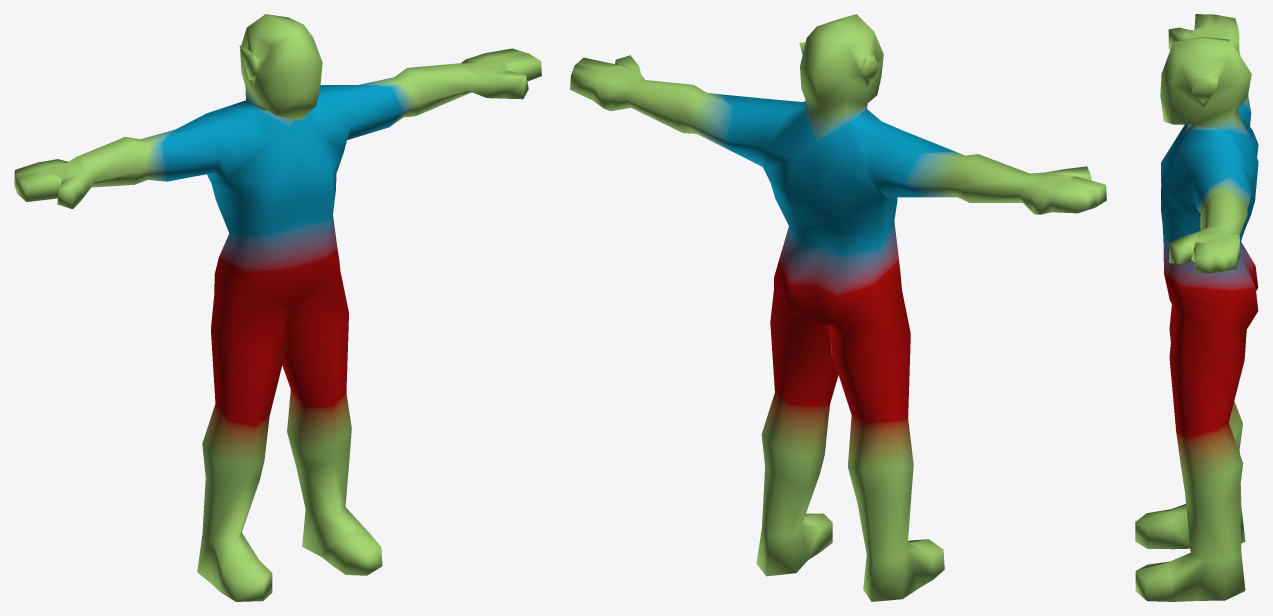
File: orc1.glb
3 views of the same model, side by side, from view 1: azimuth 30°, elevation 25°; view 2: azimuth 150°, elevation 25°; view 3: azimuth 270°, elevation 25° (orthographic). The views are drawn at different scales.
Parts seen in each view (by area): view 1: meHumanMale; view 2: meHumanMale; view 3: meHumanMale.
Boxes of the visible parts, x1,y1,x2,y2 form: meHumanMale: (14, 14, 541, 601); meHumanMale: (570, 14, 1106, 601); meHumanMale: (1135, 14, 1258, 601).
Bounding box in the file's own units: 1.9 × 1.9 × 0.4029.
